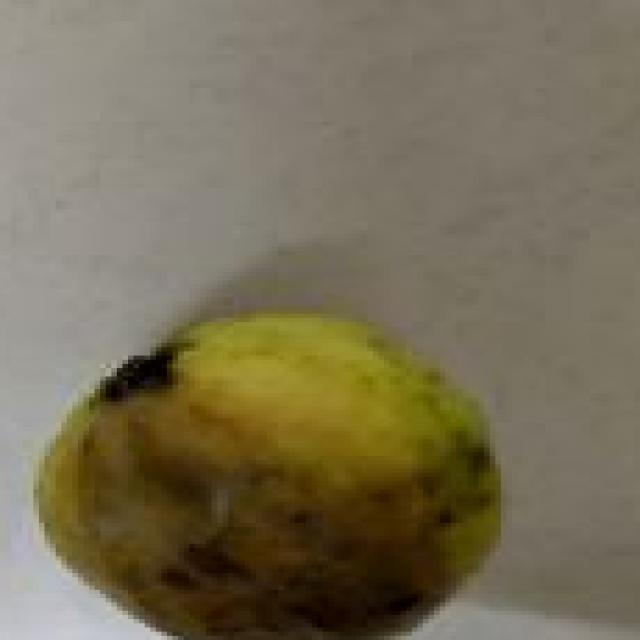Bad_Guava 0 day: (36, 312, 501, 640)
